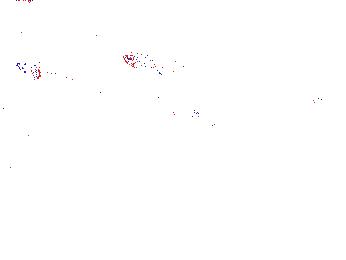glassfish: (156, 90, 233, 150), (14, 60, 106, 104)
red belly glassfish: (310, 88, 330, 110)
redtail glassfish: (121, 52, 187, 80)
